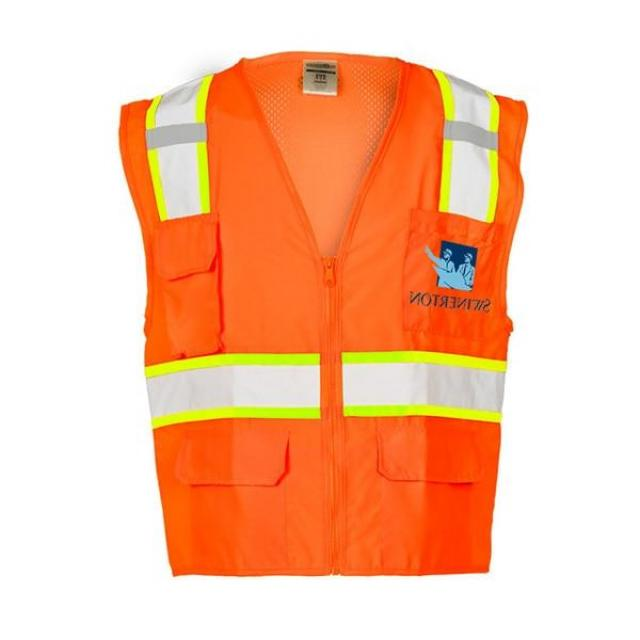Reflective-Jacket: (81, 46, 549, 601)
